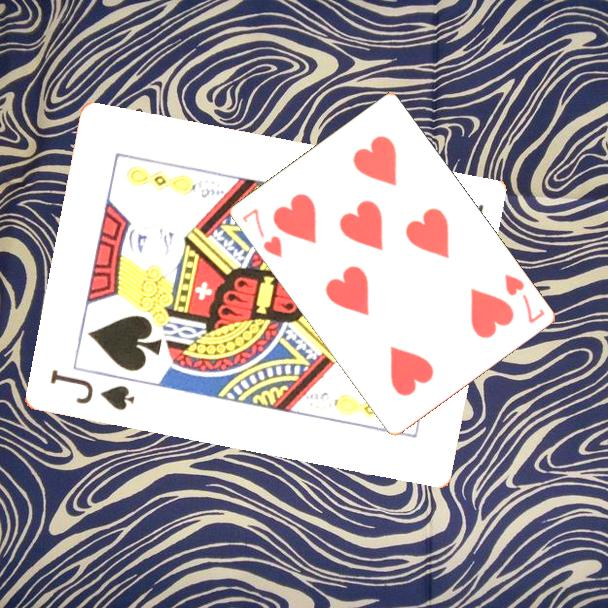h07: (239, 205, 285, 261), (501, 270, 547, 326)
s11: (46, 366, 137, 414)
